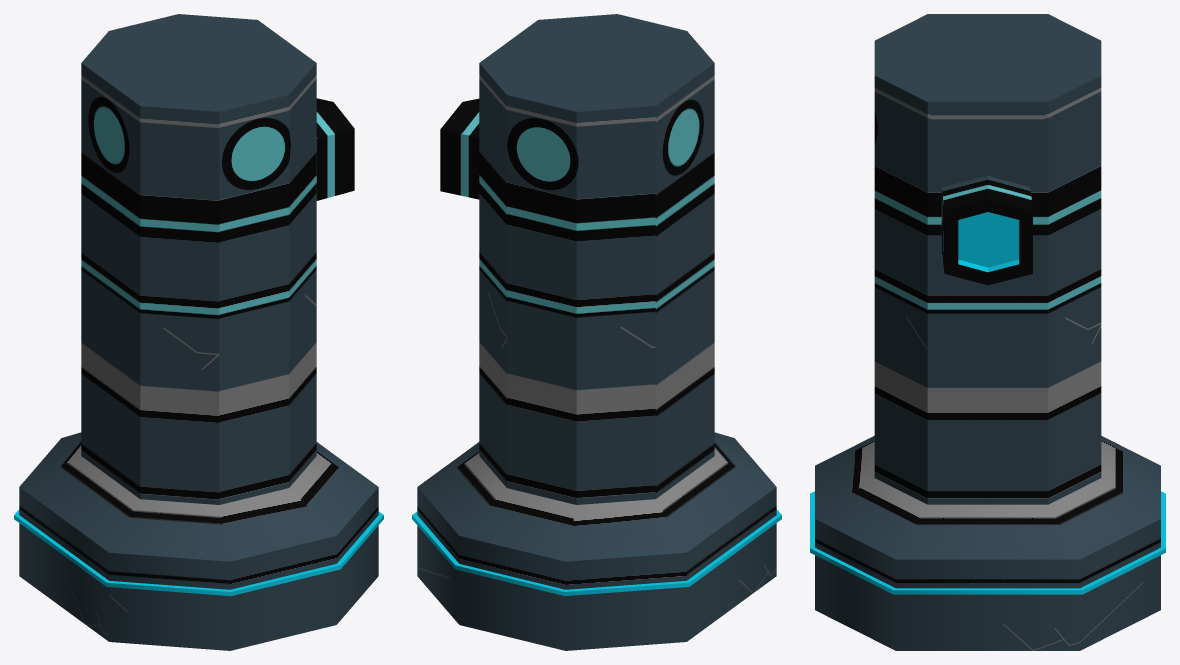
The model's file is Turret.FBX.
3 renders of one model, left to right at view 1: azimuth 30°, elevation 25°; view 2: azimuth 150°, elevation 25°; view 3: azimuth 270°, elevation 25°, orthographic. The views are drawn at different scales.
Visible parts, largest first — view 1: tourelle; view 2: tourelle; view 3: tourelle.
Part boxes in pixels (left/top/right/bottom): tourelle: left=14, top=14, right=383, bottom=650; tourelle: left=412, top=14, right=781, bottom=650; tourelle: left=810, top=14, right=1165, bottom=650.
Bounding box in the file's own units: 32.98 × 58.3 × 35.78.
